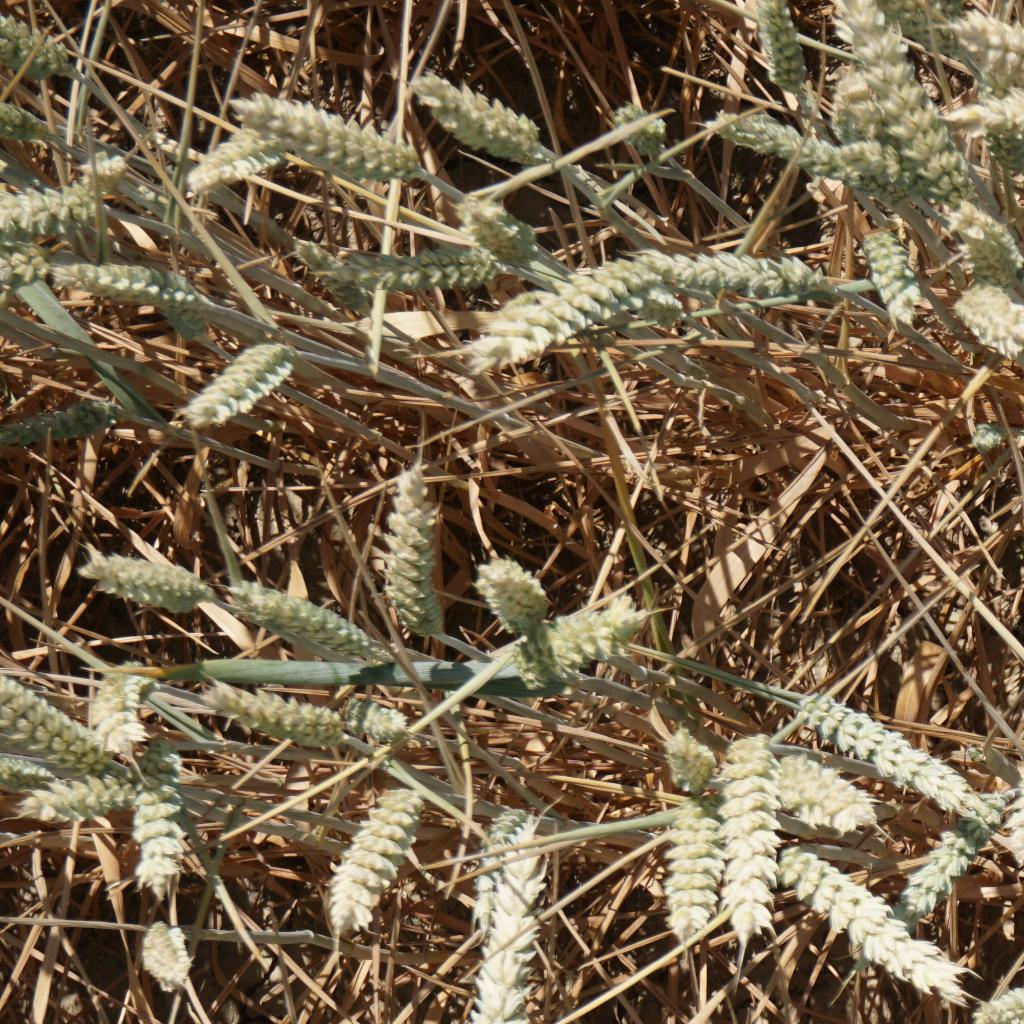0-0: (774, 854, 951, 1002), (838, 6, 978, 185), (793, 689, 974, 813), (470, 263, 653, 377), (230, 86, 411, 179), (224, 574, 399, 667), (321, 772, 413, 943), (411, 62, 561, 163), (716, 736, 783, 947), (372, 466, 446, 637), (653, 238, 833, 307), (456, 803, 547, 937), (451, 864, 525, 1024), (78, 535, 216, 616), (49, 251, 198, 323), (197, 679, 340, 754), (710, 100, 837, 183), (761, 746, 872, 837), (7, 393, 132, 468), (175, 340, 297, 415), (318, 228, 488, 281), (947, 13, 1024, 128), (533, 598, 653, 671), (900, 837, 1000, 923), (659, 807, 714, 951), (120, 775, 188, 876), (478, 551, 553, 637), (88, 657, 161, 744), (0, 685, 84, 760), (135, 913, 208, 998), (2, 11, 84, 86), (828, 112, 902, 195), (179, 128, 269, 195), (0, 187, 102, 246), (454, 193, 543, 260), (606, 92, 693, 159), (4, 779, 128, 825), (755, 0, 815, 90), (340, 679, 417, 746), (956, 206, 1024, 275), (956, 285, 1024, 354), (868, 232, 927, 309), (653, 712, 705, 791), (0, 97, 76, 148), (84, 149, 159, 200), (963, 408, 1020, 467), (963, 84, 1024, 134), (972, 970, 1024, 1024)
